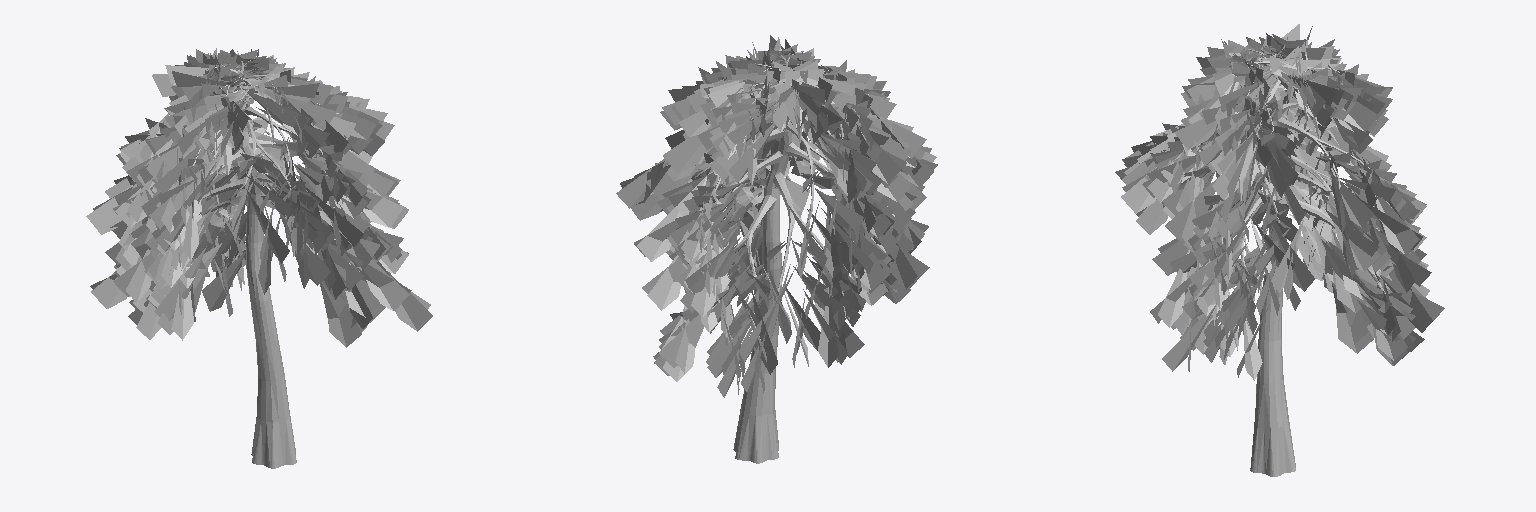
File: GiantPine_2.obj
The picture shows the model from 3 angles: view 1: azimuth 30°, elevation 25°; view 2: azimuth 150°, elevation 25°; view 3: azimuth 270°, elevation 25°; orthographic projection.
Parts seen in each view (by area): view 1: GiantPine_2; view 2: GiantPine_2; view 3: GiantPine_2.
Boxes of the visible parts, x1,y1,x2,y2 form: GiantPine_2: [86, 48, 432, 468]; GiantPine_2: [616, 35, 937, 463]; GiantPine_2: [1115, 24, 1444, 476].
Size of the model in its own units: 12.76 by 16.9 by 12.45.